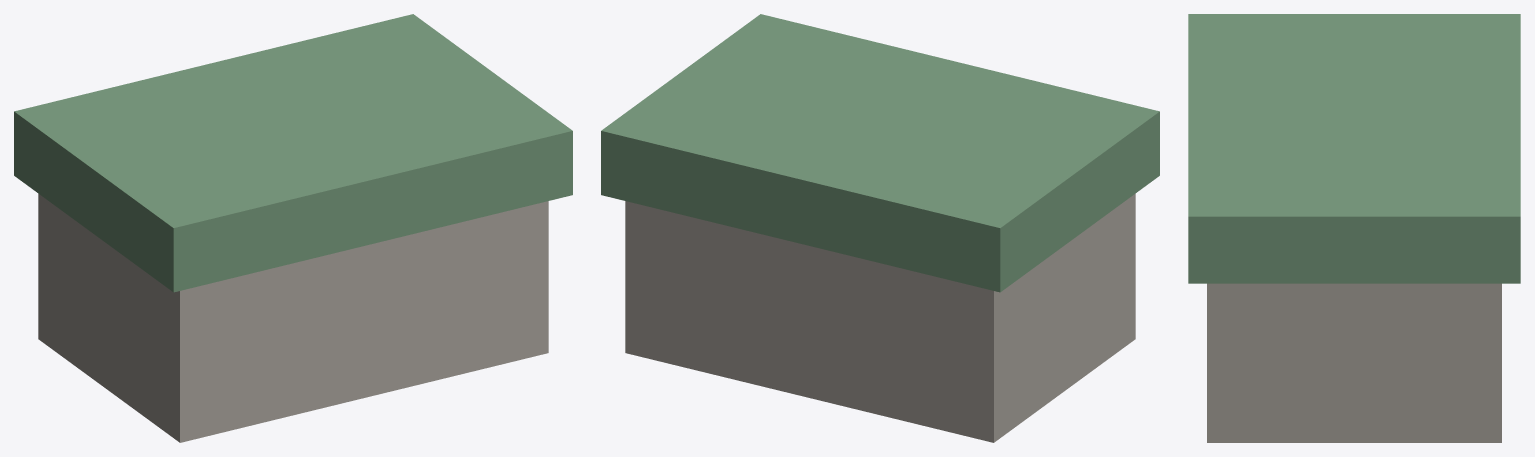
Rendered from forest_station.glb.
3 renders of one model, left to right at view 1: azimuth 30°, elevation 25°; view 2: azimuth 150°, elevation 25°; view 3: azimuth 270°, elevation 25°, orthographic. The views are drawn at different scales.
Visible parts, largest first — view 1: PitchedRoof_Node, HouseBlock_Node; view 2: PitchedRoof_Node, HouseBlock_Node; view 3: PitchedRoof_Node, HouseBlock_Node.
Part boxes in pixels (x1,y1,x2,y2): PitchedRoof_Node: (14, 14, 572, 292); HouseBlock_Node: (38, 194, 548, 442); PitchedRoof_Node: (601, 14, 1159, 292); HouseBlock_Node: (625, 194, 1135, 442); PitchedRoof_Node: (1188, 14, 1520, 283); HouseBlock_Node: (1207, 283, 1501, 442).
Bounding box in the file's own units: 13 × 7 × 9.
